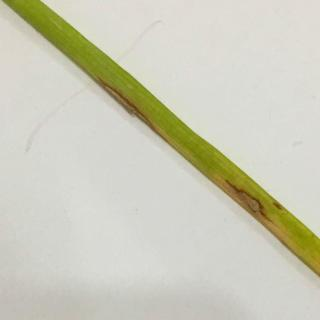Blast: (99, 70, 176, 156), (216, 167, 284, 239)
